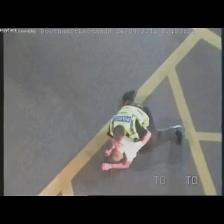person: (102, 91, 162, 170)
